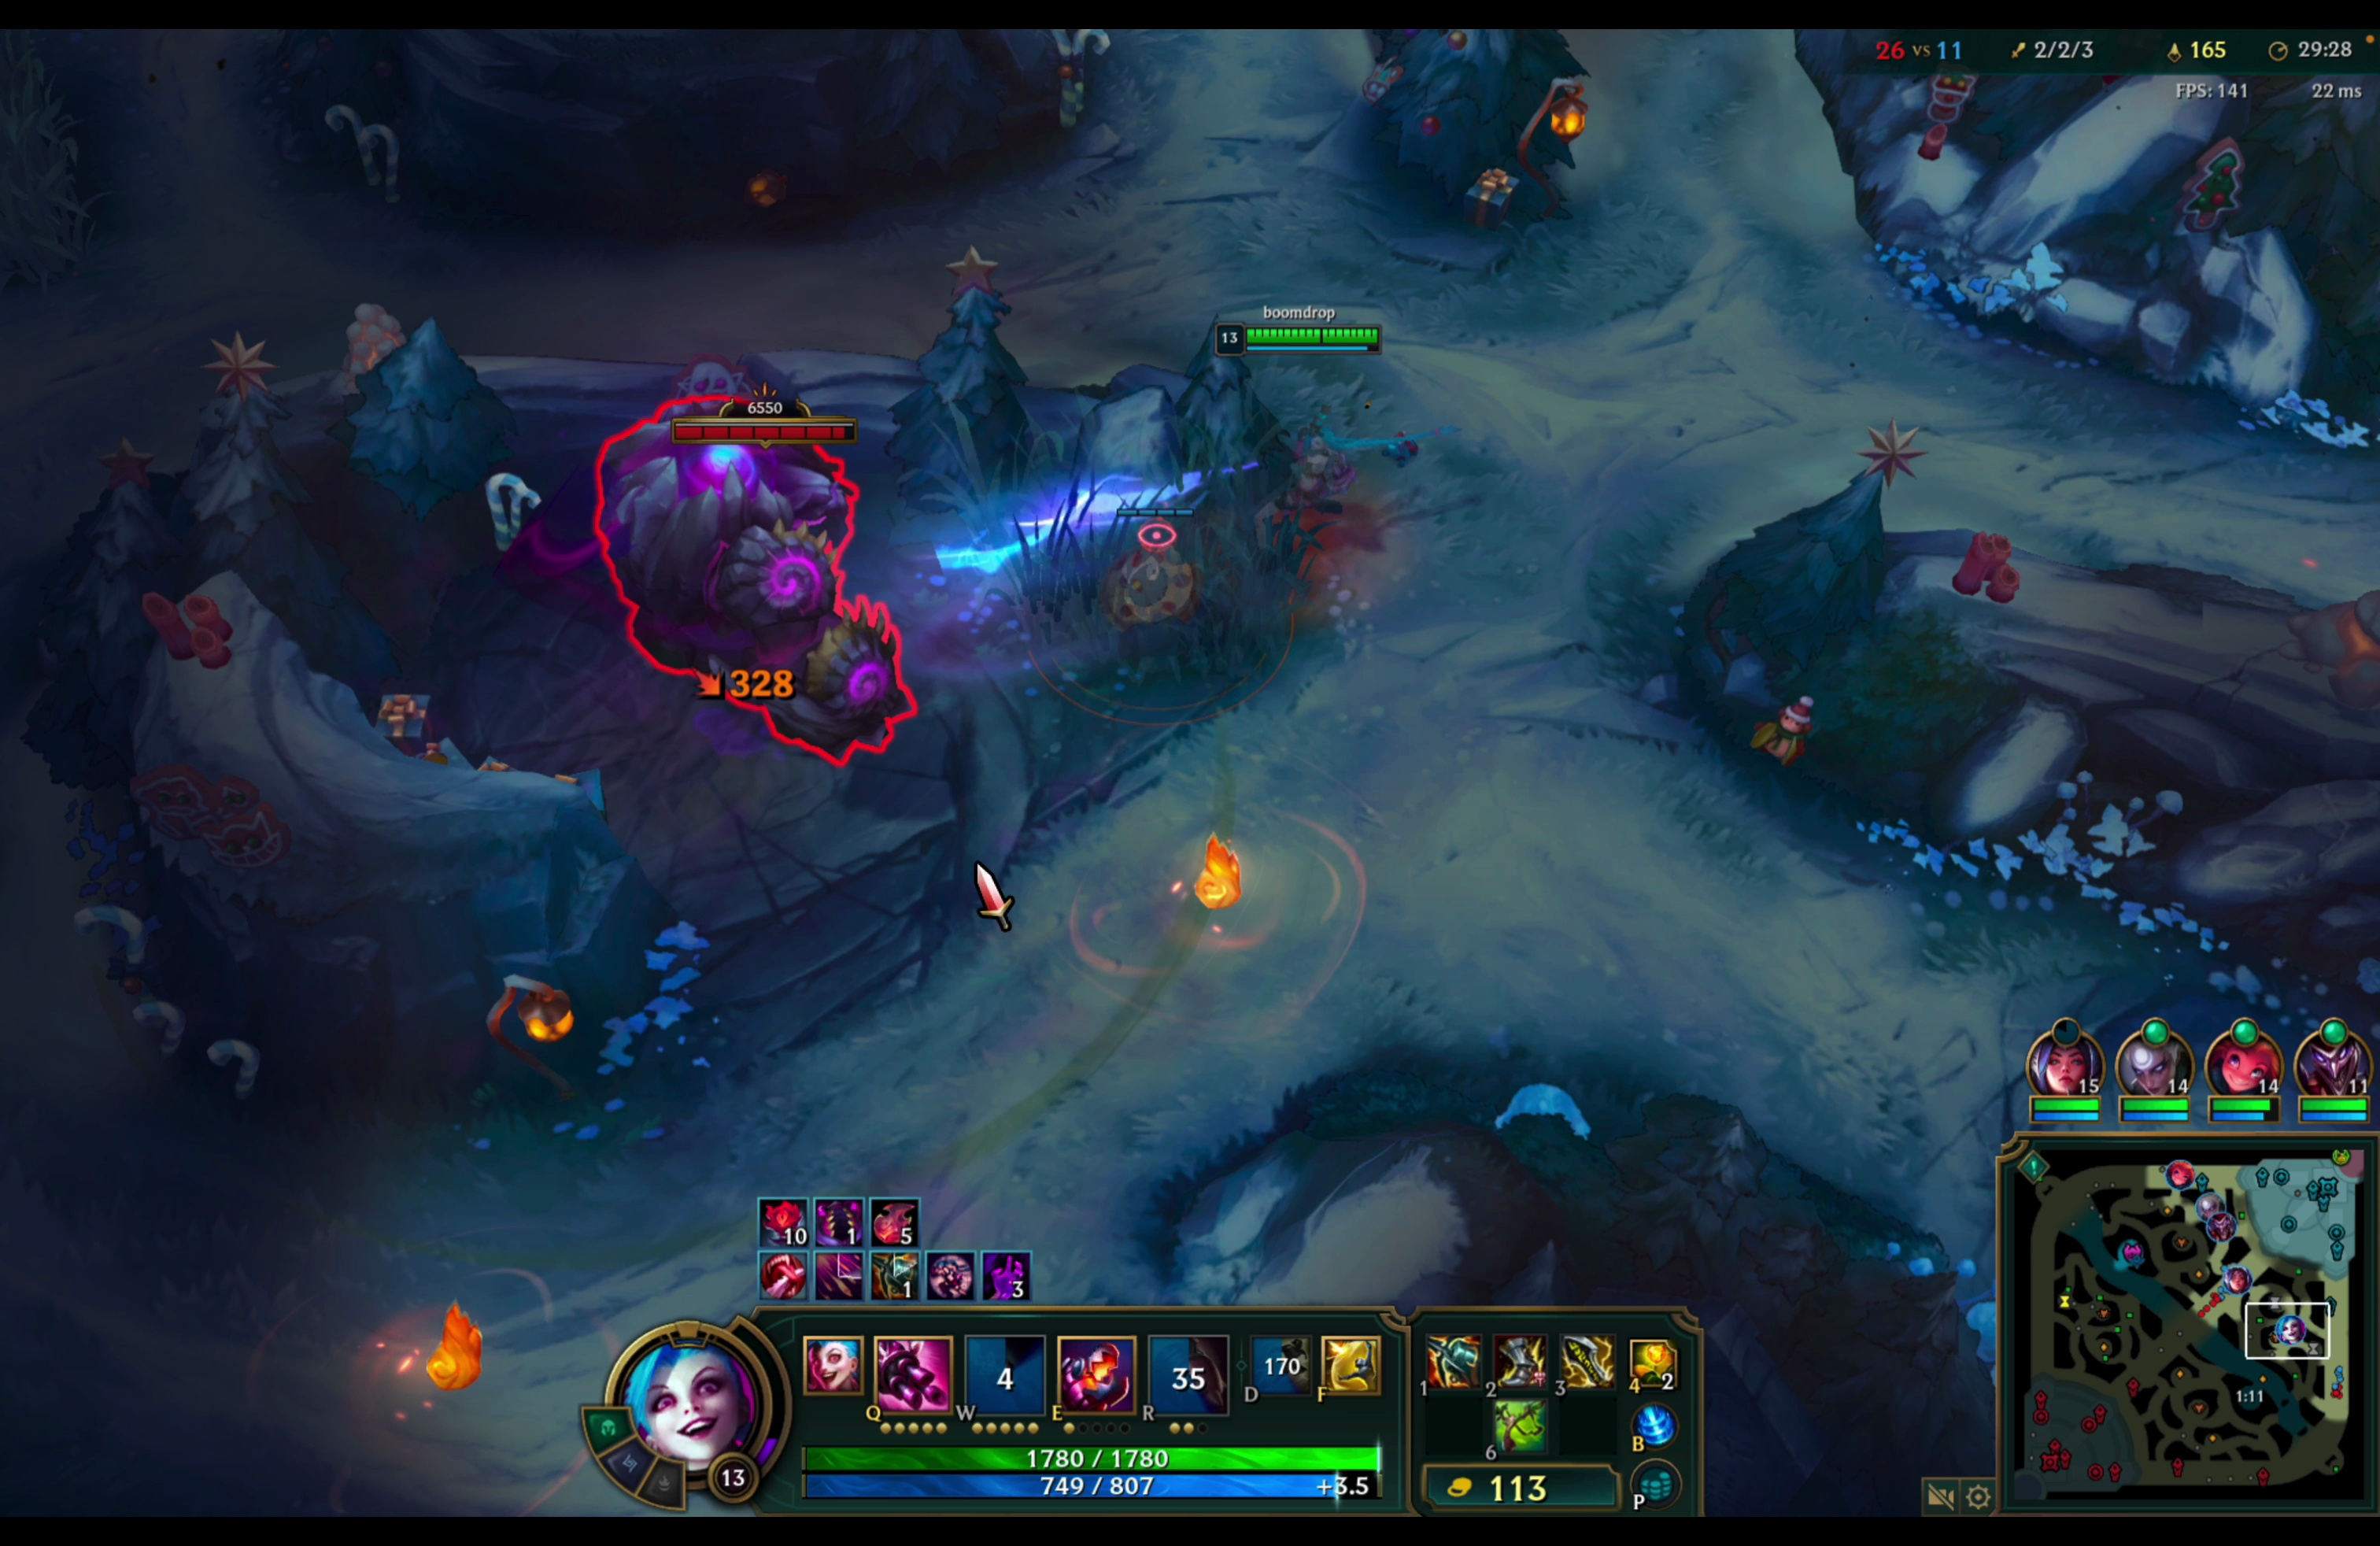JINX_W_PROJECTILE: (928, 298, 1402, 687)
